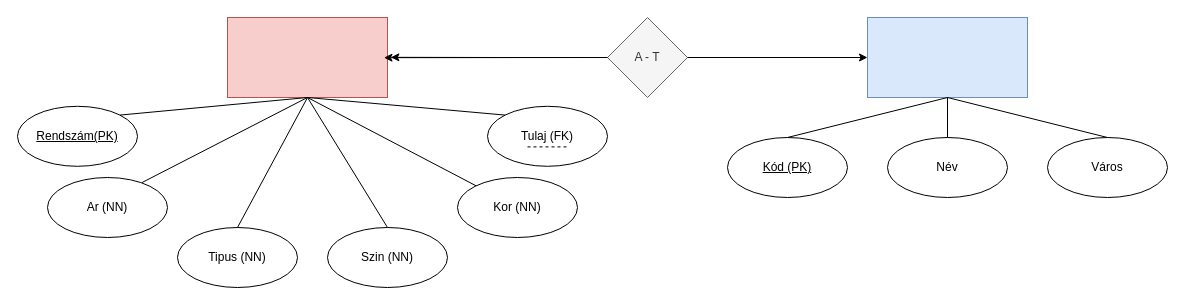
This 1185x305 diagram has some shape labels left out. Each missing label, with the centre of its shape:
Auto: (307,57)
Tulajdonos: (947,57)
